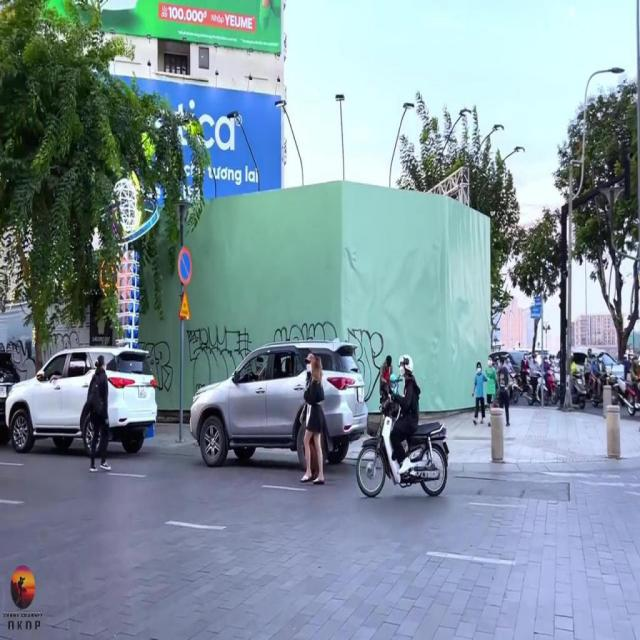cam_do_xe: (176, 244, 193, 286)
di_cham: (178, 291, 192, 321)
